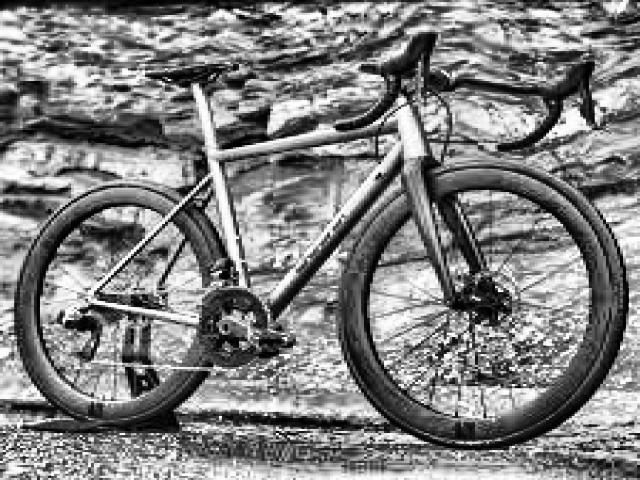cranks_set: (194, 287, 294, 367)
pedal: (244, 322, 276, 358)
rear_derailleur: (55, 303, 108, 365)
saddle: (146, 59, 242, 87)
sti_shifter: (400, 27, 440, 108), (568, 55, 608, 134)
wheel: (335, 161, 633, 450), (10, 178, 234, 430)
